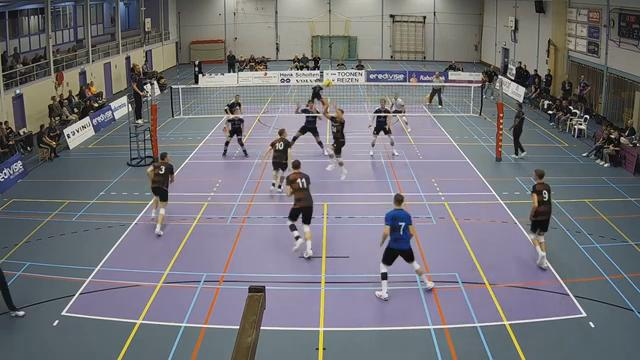alzata: (320, 99, 350, 181)
